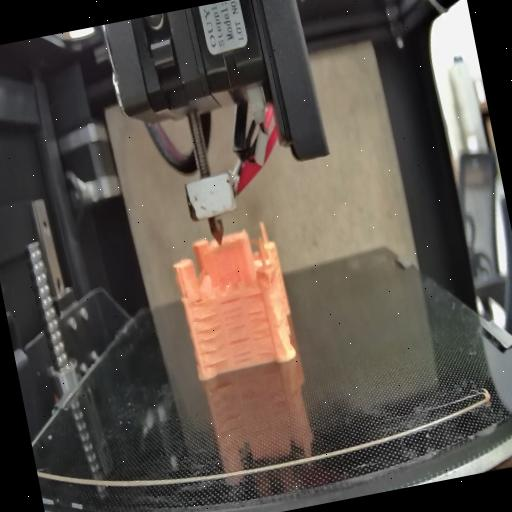cracks: (194, 312, 230, 366), (248, 310, 276, 357), (227, 330, 256, 366), (220, 296, 246, 332), (240, 292, 264, 302), (190, 296, 208, 308)
